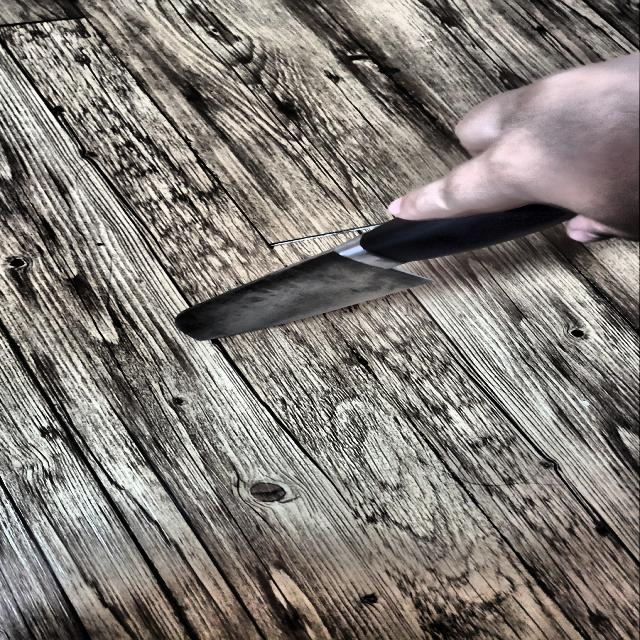knife: (170, 195, 578, 342)
